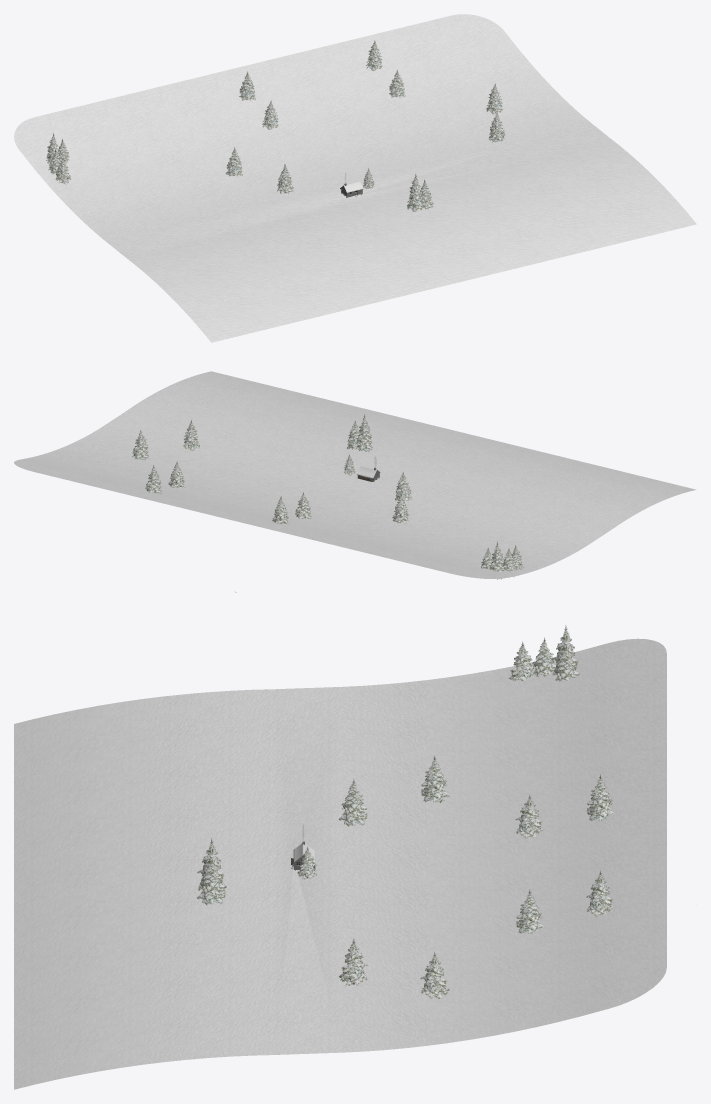
The model's file is winter_hut_scene.glb.
The picture shows the model from 3 angles, top to bottom: view 1: azimuth 30°, elevation 25°; view 2: azimuth 150°, elevation 25°; view 3: azimuth 270°, elevation 25°; orthographic projection. The views are drawn at different scales.
Visible parts, largest first — view 1: Object_977; view 2: Object_977, AM113_028_Picea_Defintion1_285; view 3: Object_977, AM113_028_Picea_Defintion1_288, AM113_028_Picea_Defintion1_249, AM113_028_Picea_Defintion1_252, AM113_028_Picea_Defintion1_273, AM113_028_Picea_Defintion1_279, AM113_028_Picea_Defintion1_255, AM113_028_Picea_Defintion1_282, AM113_028_Picea_Defintion1_276.
Boxes of the visible parts, x1,y1,x2,y2 form: Object_977: (14,14,696,342); Object_977: (14,371,696,592); AM113_028_Picea_Defintion1_285: (356,414,372,451); Object_977: (14,638,696,1089); AM113_028_Picea_Defintion1_288: (197,857,225,905); AM113_028_Picea_Defintion1_249: (339,779,367,826); AM113_028_Picea_Defintion1_252: (421,755,449,802); AM113_028_Picea_Defintion1_273: (420,952,449,998); AM113_028_Picea_Defintion1_279: (339,939,367,985); AM113_028_Picea_Defintion1_255: (587,774,613,821); AM113_028_Picea_Defintion1_282: (516,889,543,934); AM113_028_Picea_Defintion1_276: (586,870,613,917).
Size of what is drawn, in the model's own units: 197 by 30.2 by 155.
91 materials, 80 textured.
